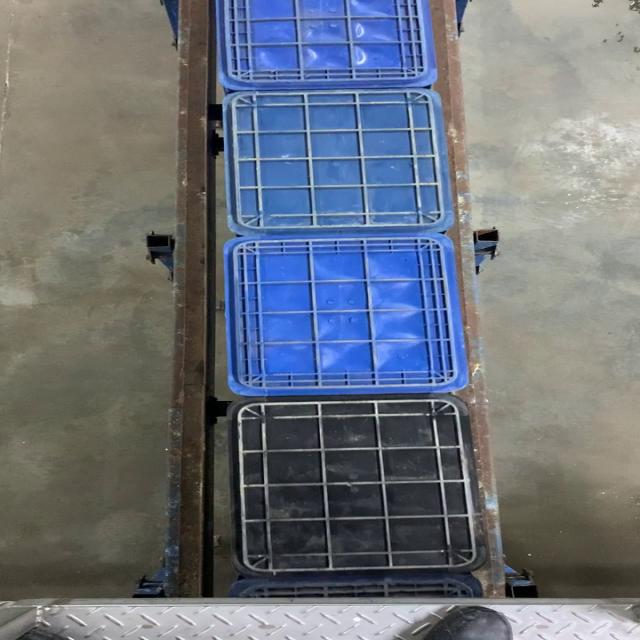Box: (224, 399, 485, 575), (223, 234, 467, 398), (221, 90, 458, 233)
